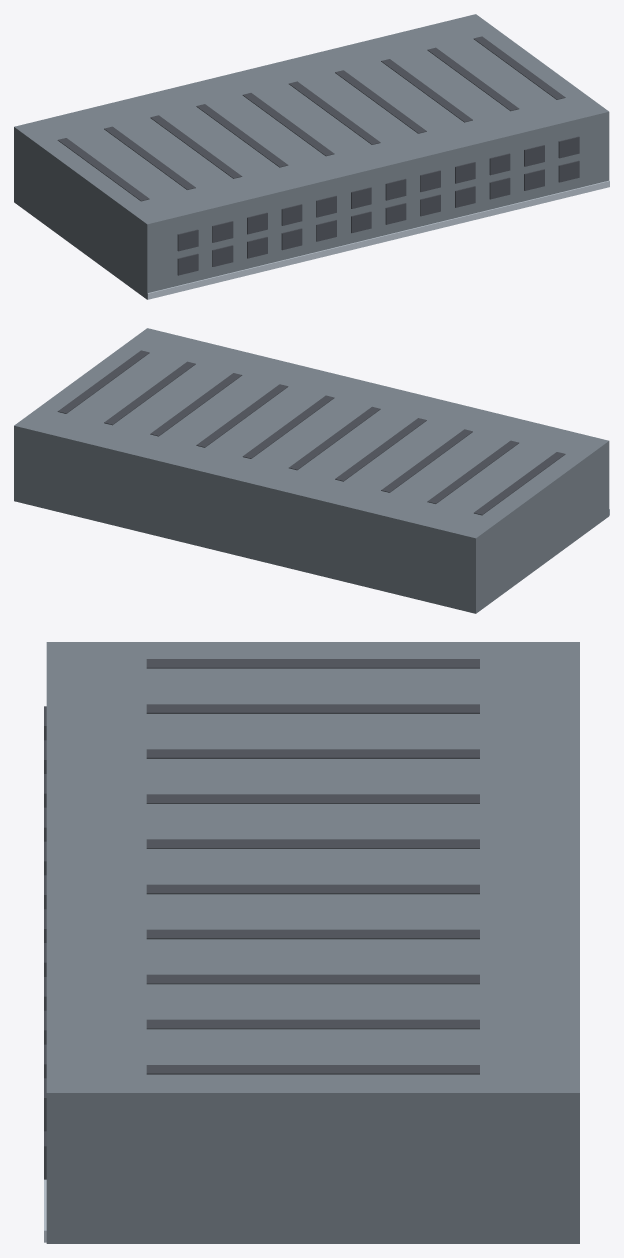
Rendered from network-switch.glb.
3 views of the same model, one above another, from view 1: azimuth 30°, elevation 25°; view 2: azimuth 150°, elevation 25°; view 3: azimuth 270°, elevation 25° (orthographic). The views are drawn at different scales.
Visible parts, largest first — view 1: chassis, dark, accent; view 2: chassis, dark; view 3: chassis, dark.
Boxes of the visible parts, box(x1,y1,x2,y2) form: chassis: box(14, 14, 609, 299); dark: box(57, 36, 579, 275); accent: box(147, 180, 609, 299); chassis: box(14, 328, 609, 613); dark: box(57, 350, 565, 515); chassis: box(46, 642, 579, 1243); dark: box(44, 659, 479, 1179).
Bounding box in the file's own units: 1.6 × 0.252 × 0.804.
